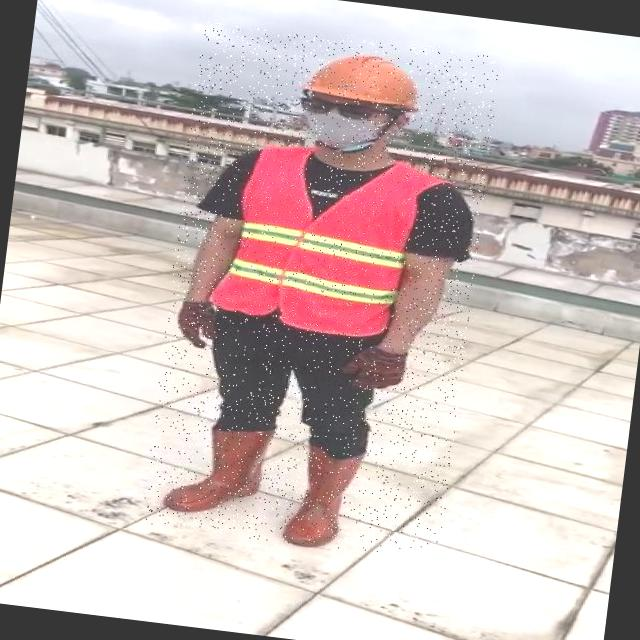boots: (157, 417, 269, 519), (280, 446, 364, 548)
gloves: (336, 348, 405, 393), (177, 300, 215, 347)
vest: (212, 142, 422, 340)
